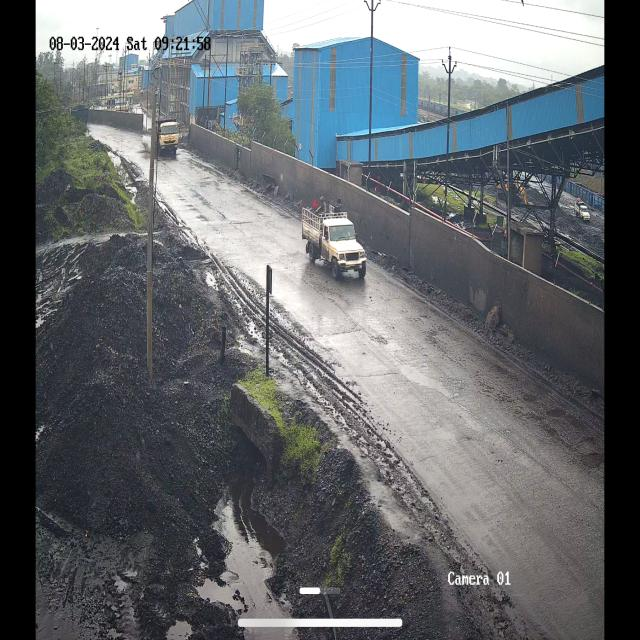dump_truck: (160, 120, 180, 156)
light_vehicle: (296, 196, 368, 286)
